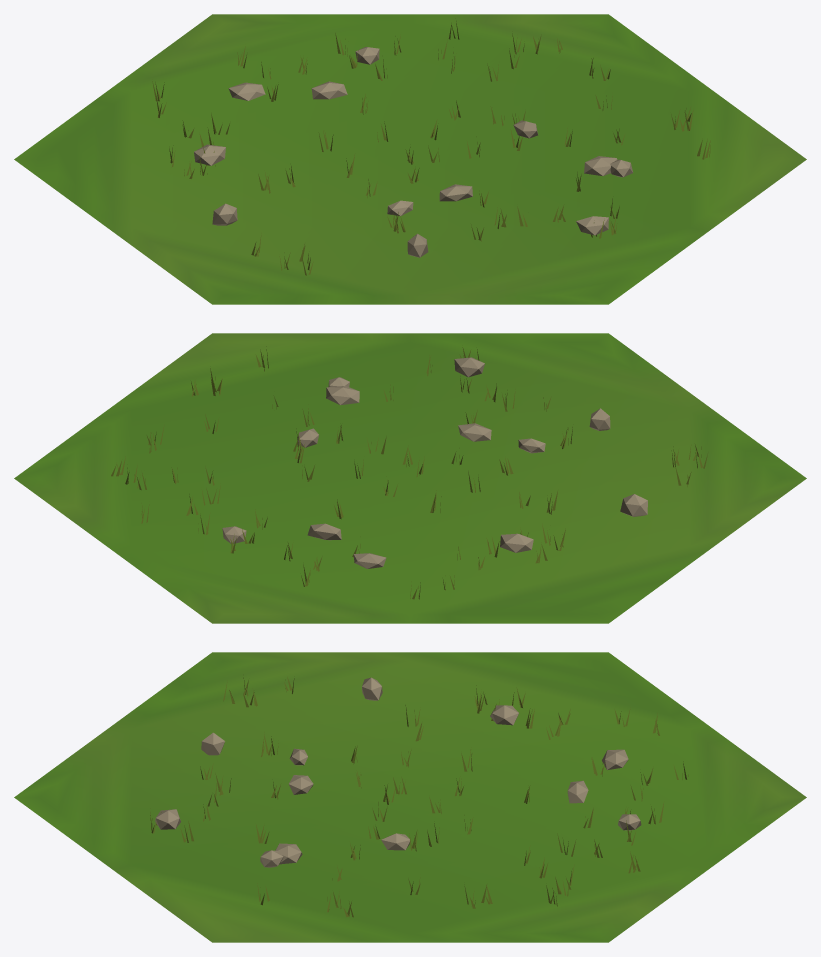
File: SM_Terreno_Llanura_LOD1.fbx
The picture shows the model from 3 angles, top to bottom: view 1: azimuth 30°, elevation 25°; view 2: azimuth 150°, elevation 25°; view 3: azimuth 270°, elevation 25°; orthographic projection.
Visible parts, largest first — view 1: SM_Terreno_Llanura_LOD1; view 2: SM_Terreno_Llanura_LOD1; view 3: SM_Terreno_Llanura_LOD1.
Boxes of the visible parts, box(x1,y1,x2,y2) form: SM_Terreno_Llanura_LOD1: box(14, 14, 806, 304); SM_Terreno_Llanura_LOD1: box(14, 333, 806, 623); SM_Terreno_Llanura_LOD1: box(14, 652, 806, 942).
Bounding box in the file's own units: 173 × 8.06 × 200.
